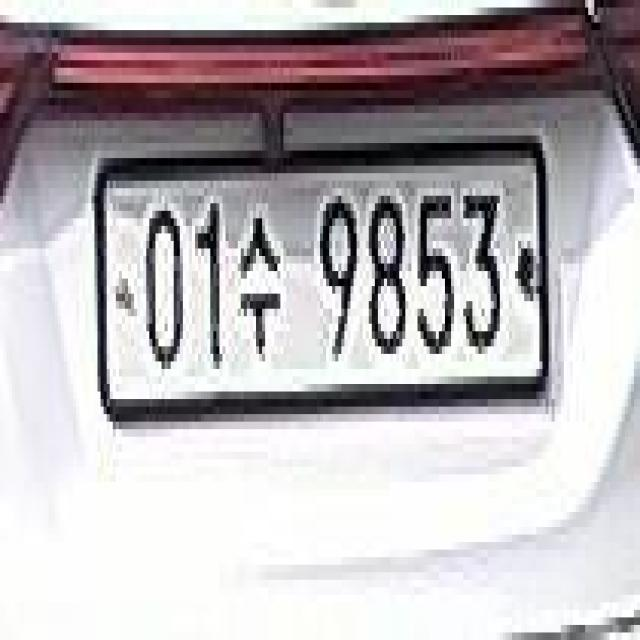illegal_plate: (92, 136, 554, 438)
